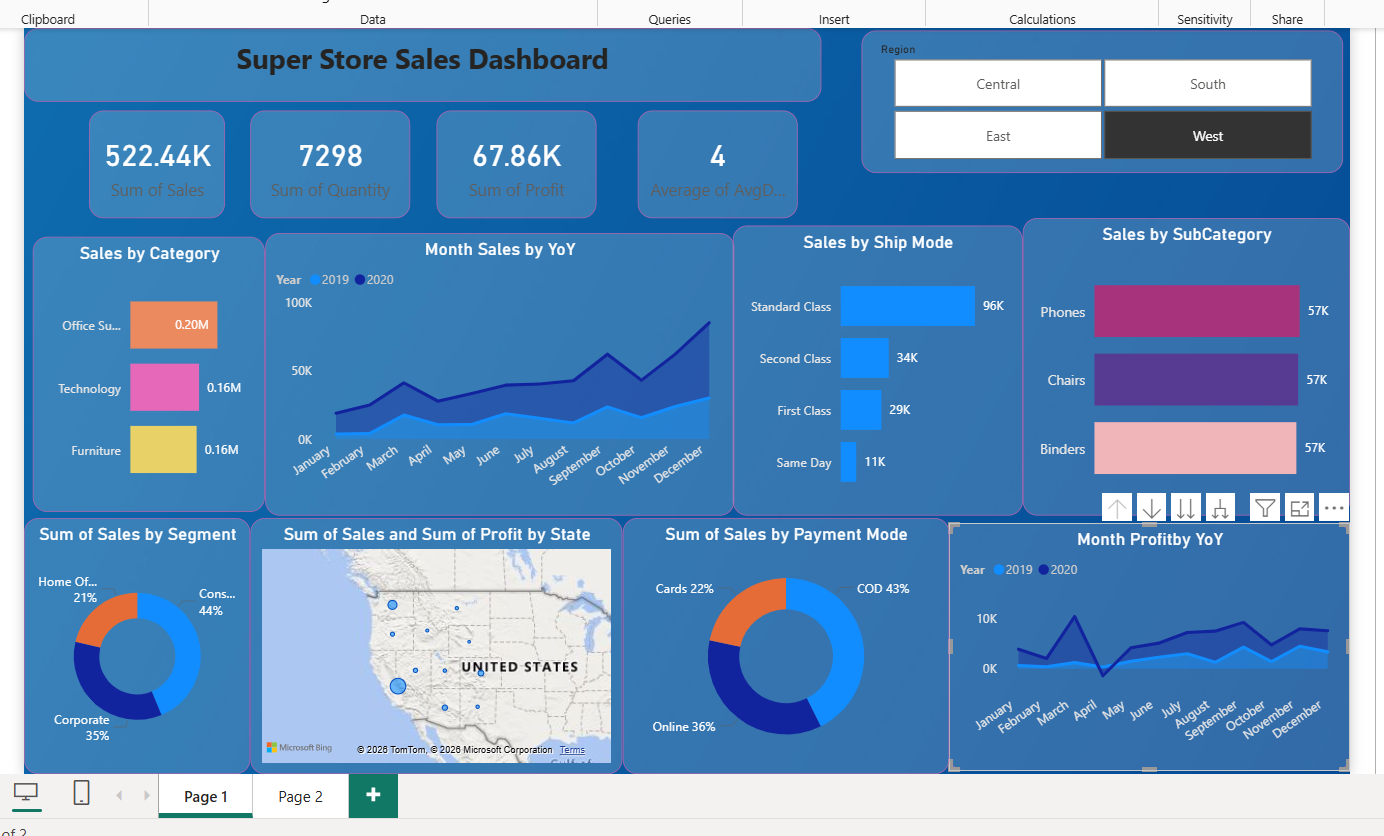

The page's visual inventory and layout, read from the dashboard file:
{"tool":"powerbi","page":{"name":"Page 1","canvas":[1280,720],"ordinal":0},"visuals":[{"type":"clusteredBarChart","title":"Sales by Category","fields":{"Category":["SuperStore_Sales_Dataset.Category"],"Y":["Sum(SuperStore_Sales_Dataset.Sales)"]},"box":[8.4,201.5,224.4,265.4],"z":0},{"type":"clusteredBarChart","title":"Sales by SubCategory","fields":{"Category":["SuperStore_Sales_Dataset.Sub-Category"],"Y":["Sum(SuperStore_Sales_Dataset.Sales)"]},"box":[963.9,183.4,316.1,287.1],"z":1000},{"type":"clusteredBarChart","title":"Sales by Ship Mode","fields":{"Category":["SuperStore_Sales_Dataset.Ship Mode"],"Y":["Sum(SuperStore_Sales_Dataset.Sales)"]},"box":[684.1,190.6,279.9,279.9],"z":2000},{"type":"stackedAreaChart","title":"Month Sales by YoY ","fields":{"Category":["SuperStore_Sales_Dataset.Order Date.Variation.Date Hierarchy.Month","SuperStore_Sales_Dataset.Order Date.Variation.Date Hierarchy.Day"],"Y":["Sum(SuperStore_Sales_Dataset.Sales)"],"Series":["SuperStore_Sales_Dataset.Order Date.Variation.Date Hierarchy.Year"]},"box":[232.8,197.9,452.4,272.7],"z":3000},{"type":"stackedAreaChart","title":"Month Profitby YoY ","fields":{"Category":["SuperStore_Sales_Dataset.Order Date.Variation.Date Hierarchy.Month","SuperStore_Sales_Dataset.Order Date.Variation.Date Hierarchy.Day"],"Series":["SuperStore_Sales_Dataset.Order Date.Variation.Date Hierarchy.Year"],"Y":["Sum(SuperStore_Sales_Dataset.Profit)"]},"box":[892.8,477.8,387.3,238.9],"z":4000},{"type":"map","fields":{"Category":["SuperStore_Sales_Dataset.State"],"Size":["Sum(SuperStore_Sales_Dataset.Sales)"]},"box":[218.4,472.9,359.5,247.3],"z":5000},{"type":"donutChart","fields":{"Category":["SuperStore_Sales_Dataset.Segment"],"Y":["Sum(SuperStore_Sales_Dataset.Sales)"]},"box":[0,472.9,218.4,247.3],"z":6000},{"type":"donutChart","fields":{"Category":["SuperStore_Sales_Dataset.Payment Mode"],"Y":["Sum(SuperStore_Sales_Dataset.Sales)"]},"box":[577.9,472.9,314.9,247.3],"z":7000},{"type":"slicer","fields":{"Values":["SuperStore_Sales_Dataset.Region"]},"box":[808.3,2.4,464.5,137.5],"z":8000},{"type":"textbox","box":[0,0,769.7,71.2],"z":9000},{"type":"card","fields":{"Values":["Sum(SuperStore_Sales_Dataset.Sales)"]},"box":[62.7,79.6,131.5,103.8],"z":10000},{"type":"card","fields":{"Values":["Sum(SuperStore_Sales_Dataset.Quantity)"]},"box":[218.4,79.6,154.4,103.8],"z":11000},{"type":"card","fields":{"Values":["Sum(SuperStore_Sales_Dataset.Profit)"]},"box":[398.1,79.6,154.4,103.8],"z":12000},{"type":"card","fields":{"Values":["Avg(SuperStore_Sales_Dataset.AvgDelivery)"]},"box":[592.4,79.6,154.4,103.8],"z":13000}]}

Visuals, with their boxes on the page's 1280x720 design canvas (x1, y1, x2, y2). These are canvas units, not pixel positions in the 1384x836 screenshot, which may show the page scaled, cropped or inside an application window:
"Sales by Category" clusteredBarChart: <region>8, 202, 233, 467</region>
"Sales by SubCategory" clusteredBarChart: <region>964, 183, 1280, 470</region>
"Sales by Ship Mode" clusteredBarChart: <region>684, 191, 964, 470</region>
"Month Sales by YoY " stackedAreaChart: <region>233, 198, 685, 471</region>
"Month Profitby YoY " stackedAreaChart: <region>893, 478, 1280, 717</region>
map - SuperStore_Sales_Dataset.State x Sum(SuperStore_Sales_Dataset.Sales): <region>218, 473, 578, 720</region>
donutChart - SuperStore_Sales_Dataset.Segment x Sum(SuperStore_Sales_Dataset.Sales): <region>0, 473, 218, 720</region>
donutChart - SuperStore_Sales_Dataset.Payment Mode x Sum(SuperStore_Sales_Dataset.Sales): <region>578, 473, 893, 720</region>
slicer - SuperStore_Sales_Dataset.Region: <region>808, 2, 1273, 140</region>
textbox: <region>0, 0, 770, 71</region>
card - Sum(SuperStore_Sales_Dataset.Sales): <region>63, 80, 194, 183</region>
card - Sum(SuperStore_Sales_Dataset.Quantity): <region>218, 80, 373, 183</region>
card - Sum(SuperStore_Sales_Dataset.Profit): <region>398, 80, 552, 183</region>
card - Avg(SuperStore_Sales_Dataset.AvgDelivery): <region>592, 80, 747, 183</region>
